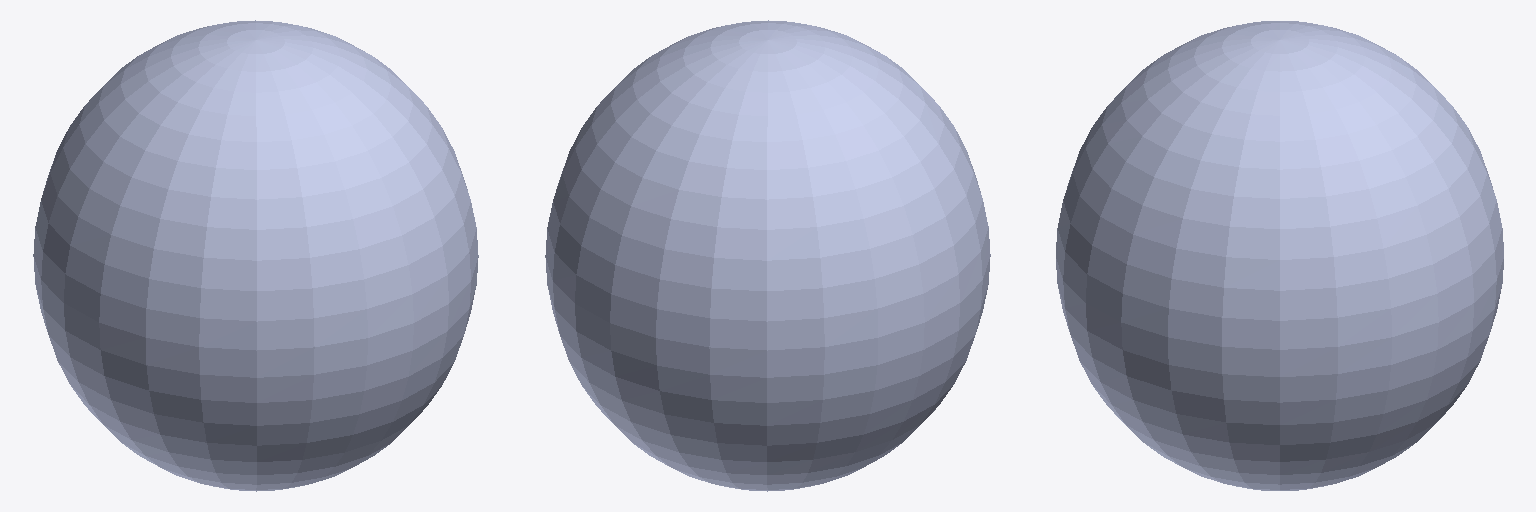
The robot description file, URDF, robot "sphere_skeleton":
<?xml version="1.0"?>
<robot name="sphere_skeleton">
    <link name="world" />
    <link
    name="palm">
    <inertial>
      <origin
        xyz="-0 -0.0 -0.0"
        rpy="0 0 0" />
      <mass
        value="1" />
      <inertia
        ixx="0.0001"
        ixy="0"
        ixz="0"
        iyy="0.0001"
        iyz="0"
        izz="0.0001" />
    </inertial>
    <visual>
        <origin
        xyz="-0.025 -0.025 -0.025"
        rpy="0 0 0" />
      <!--<origin-->
        <!--xyz="-0.01 -0.032 -0.032"-->
        <!--rpy="0 0 0" />-->
      <geometry>
          <!--<sphere-->
          <!--radius="0.02" />-->
        <mesh
          filename="meshes/sphere.STL" />
      </geometry>
      <material
        name="">
        <color
          rgba="0.792156862745098 0.819607843137255 0.933333333333333 1" />
      </material>
    </visual>
    <collision>
        <origin
        xyz="-0.025 -0.025 -0.025"
        rpy="0 0 0" />
      <!--<origin-->
        <!--xyz="-0.01 -0.032 -0.032"-->
        <!--rpy="0 0 0" />-->
      <geometry>
          <!--<sphere-->
          <!--radius="0.02" />-->
        <mesh
          filename="meshes/sphere.STL" />
      </geometry>
    </collision>
  </link>
        <joint name="ground_joint" type="floating">
        <origin xyz="0 0 0"/>
        <parent link="world" />
        <child link="palm" />
        <!--<axis xyz="0 1 0 "/>-->
    </joint>
</robot>

--- Facts derived from the render (not from the file) ---
The picture shows the robot from 3 angles, left to right: view 1: azimuth 30°, elevation 25°; view 2: azimuth 150°, elevation 25°; view 3: azimuth 270°, elevation 25°; orthographic projection.
Model sphere_skeleton with 2 links and 1 joints (1 floating), rooted at world, posed every joint at zero.
Visible links, largest first — view 1: palm; view 2: palm; view 3: palm.
Link boxes in pixels (<box>): palm: <box>33,20,478,491</box>; palm: <box>545,20,990,491</box>; palm: <box>1056,21,1503,490</box>.
Size in the robot's own frame: 0.0416 by 0.042 by 0.0446 metres.
Meshes: 1 distinct files referenced, 1 mesh visuals loaded (1 ASCII STL).